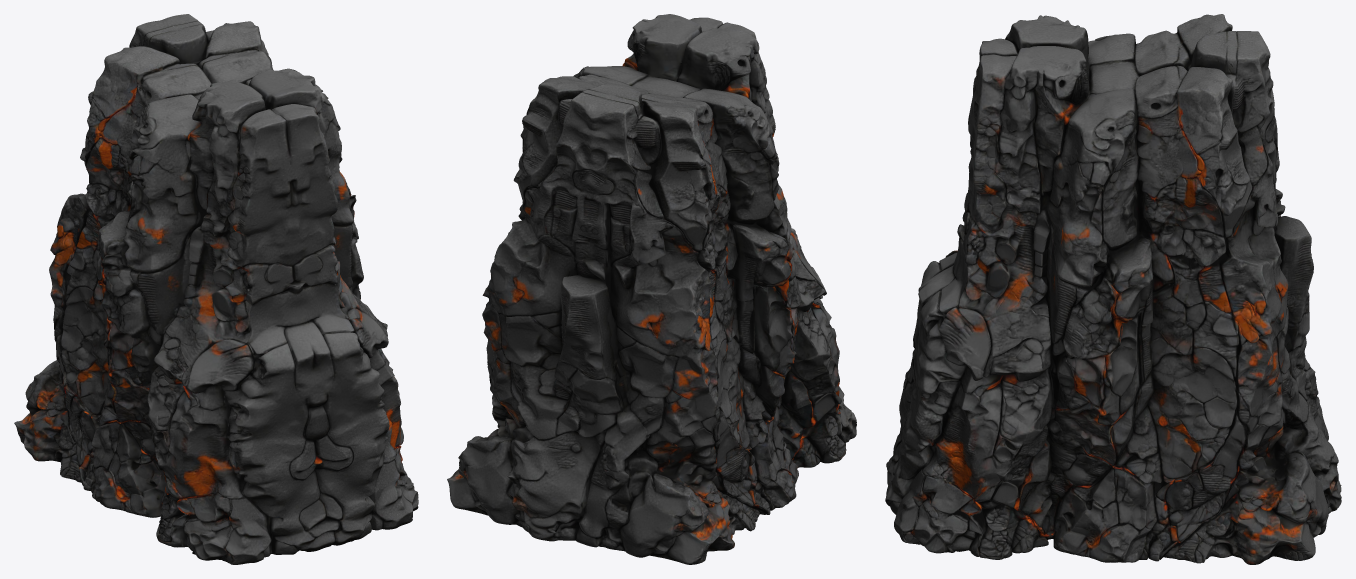
File: venus_cliff.glb
3 views of the same model, side by side, from view 1: azimuth 30°, elevation 25°; view 2: azimuth 150°, elevation 25°; view 3: azimuth 270°, elevation 25° (orthographic). The views are drawn at different scales.
Parts seen in each view (by area): view 1: tripo_node_15faa31c-8f79-4b59-a958-eff007e5fba0; view 2: tripo_node_15faa31c-8f79-4b59-a958-eff007e5fba0; view 3: tripo_node_15faa31c-8f79-4b59-a958-eff007e5fba0.
Part boxes in pixels (box(x1,y1,x2,y2)): tripo_node_15faa31c-8f79-4b59-a958-eff007e5fba0: box(14, 14, 418, 564); tripo_node_15faa31c-8f79-4b59-a958-eff007e5fba0: box(447, 14, 856, 564); tripo_node_15faa31c-8f79-4b59-a958-eff007e5fba0: box(885, 14, 1341, 564).
Bounding box in the file's own units: 0.6797 × 0.9796 × 0.8955.
1 material, 1 textured.
